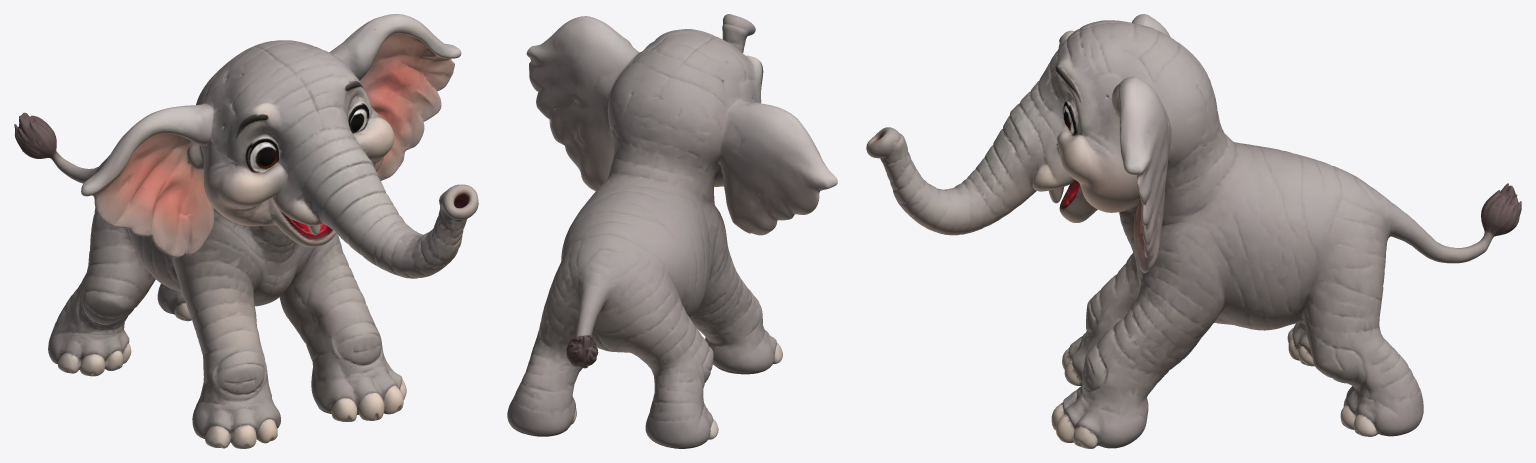
File: elephant3d.glb
3 views of the same model, side by side, from view 1: azimuth 30°, elevation 25°; view 2: azimuth 150°, elevation 25°; view 3: azimuth 270°, elevation 25° (orthographic). The views are drawn at different scales.
Visible parts, largest first — view 1: tripo_node_57a6edc7-3be1-43d4-961b-51db86c577ae; view 2: tripo_node_57a6edc7-3be1-43d4-961b-51db86c577ae; view 3: tripo_node_57a6edc7-3be1-43d4-961b-51db86c577ae.
Part boxes in pixels (bbox=[...]): tripo_node_57a6edc7-3be1-43d4-961b-51db86c577ae: bbox=[14, 14, 478, 448]; tripo_node_57a6edc7-3be1-43d4-961b-51db86c577ae: bbox=[507, 14, 837, 448]; tripo_node_57a6edc7-3be1-43d4-961b-51db86c577ae: bbox=[866, 14, 1521, 448].
Bounding box in the file's own units: 0.6626 × 0.6365 × 0.9999.
1 material, 1 textured.
